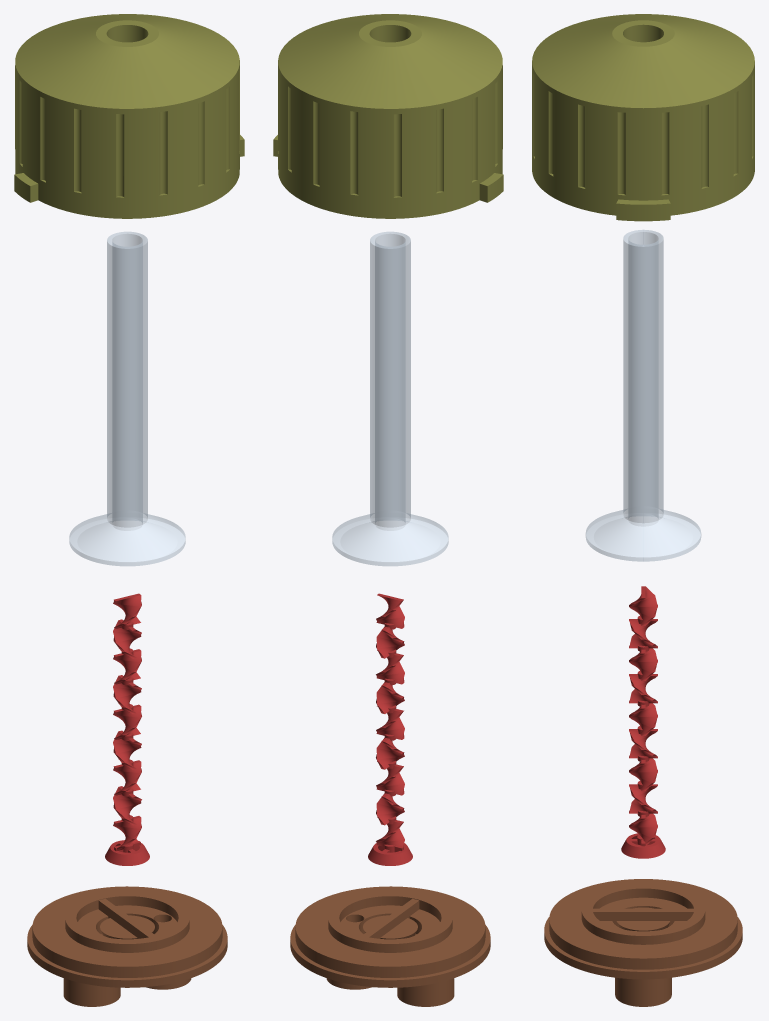
Rendered from mixer_4part_exploded.glb.
The picture shows the model from 3 angles, left to right: view 1: azimuth 30°, elevation 25°; view 2: azimuth 150°, elevation 25°; view 3: azimuth 270°, elevation 25°; orthographic projection.
Parts seen in each view (by area): view 1: mixer_4part_exploded (×4); view 2: mixer_4part_exploded (×4); view 3: mixer_4part_exploded (×4).
Boxes of the visible parts, left/top/right/bottom form: mixer_4part_exploded (×4): left=14, top=14, right=244, bottom=1006; mixer_4part_exploded (×4): left=273, top=14, right=503, bottom=1006; mixer_4part_exploded (×4): left=532, top=14, right=754, bottom=1006.
Bounding box in the file's own units: 0.024 × 0.1029 × 0.022.
